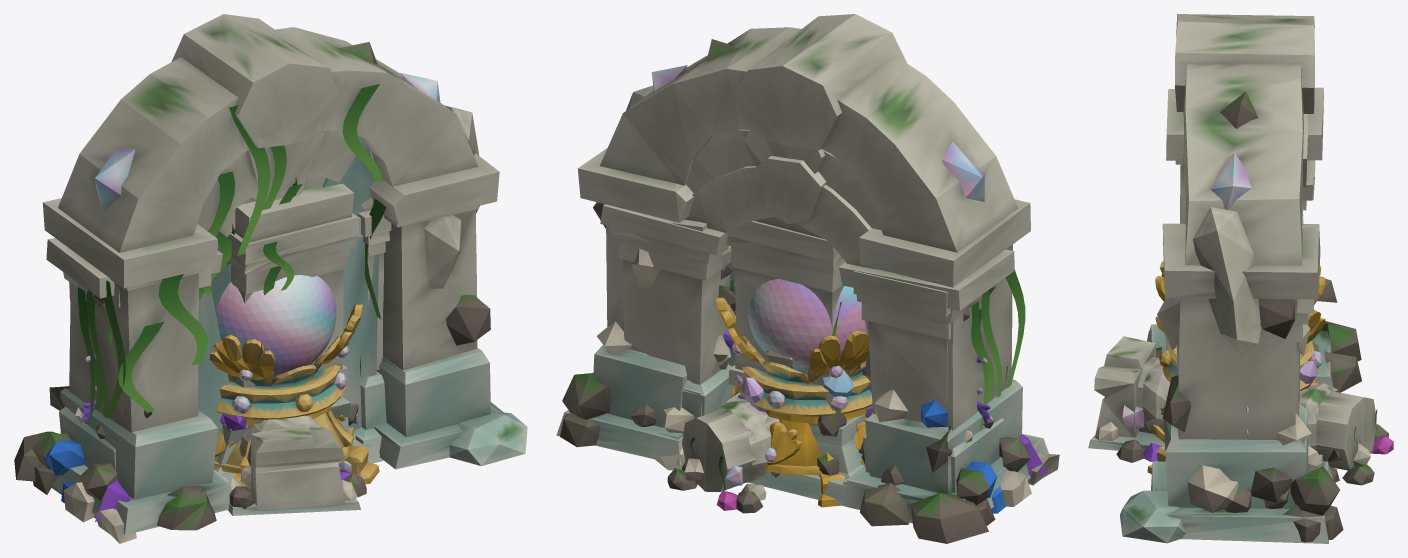
The model's file is grotto-props.glb.
3 renders of one model, left to right at view 1: azimuth 30°, elevation 25°; view 2: azimuth 150°, elevation 25°; view 3: azimuth 270°, elevation 25°, orthographic.
Parts seen in each view (by area): view 1: prop_arch_sealed_flat, prop_arch_flat, prop_pillar_flat, prop_pillar_fallen_flat, prop_pearl_altar_flat, prop_pearl_altar_shinesm, prop_arch_sealed_smooth, prop_arch_shell_flat, prop_arch_sealed_shinesm, prop_arch_smooth, prop_arch_shell_smooth, prop_pillar_smooth; view 2: prop_arch_sealed_flat, prop_arch_shell_flat, prop_arch_flat, prop_pillar_flat, prop_pearl_altar_flat, prop_pillar_fallen_flat, prop_pearl_altar_shinesm, prop_arch_sealed_smooth, prop_arch_sealed_shinesm, prop_crystal_l_shine, prop_arch_shell_smooth; view 3: prop_arch_sealed_flat, prop_pillar_fallen_flat, prop_arch_shell_flat, prop_pearl_altar_flat, prop_arch_sealed_shinesm, prop_arch_flat, prop_pillar_fallen_shinesm.
Part boxes in pixels (x1=…): prop_arch_sealed_flat: x1=14, y1=14, x2=527, y2=534; prop_arch_flat: x1=32, y1=130, x2=391, y2=522; prop_pillar_flat: x1=215, y1=183, x2=383, y2=480; prop_pillar_fallen_flat: x1=222, y1=415, x2=366, y2=515; prop_pearl_altar_flat: x1=209, y1=304, x2=379, y2=490; prop_pearl_altar_shinesm: x1=215, y1=275, x2=357, y2=472; prop_arch_sealed_smooth: x1=79, y1=84, x2=386, y2=418; prop_arch_shell_flat: x1=45, y1=176, x2=363, y2=543; prop_arch_sealed_shinesm: x1=95, y1=73, x2=440, y2=210; prop_arch_smooth: x1=199, y1=145, x2=302, y2=300; prop_arch_shell_smooth: x1=78, y1=230, x2=360, y2=424; prop_pillar_smooth: x1=227, y1=224, x2=294, y2=295; prop_arch_sealed_flat: x1=556, y1=14, x2=1048, y2=543; prop_arch_shell_flat: x1=600, y1=156, x2=1059, y2=523; prop_arch_flat: x1=595, y1=129, x2=1031, y2=525; prop_pillar_flat: x1=726, y1=217, x2=865, y2=509; prop_pearl_altar_flat: x1=716, y1=297, x2=872, y2=507; prop_pillar_fallen_flat: x1=667, y1=400, x2=779, y2=513; prop_pearl_altar_shinesm: x1=722, y1=279, x2=866, y2=462; prop_arch_sealed_smooth: x1=971, y1=269, x2=1025, y2=401; prop_arch_sealed_shinesm: x1=651, y1=65, x2=984, y2=201; prop_crystal_l_shine: x1=741, y1=367, x2=872, y2=417; prop_arch_shell_smooth: x1=730, y1=279, x2=988, y2=430; prop_arch_sealed_flat: x1=1120, y1=14, x2=1361, y2=543; prop_pillar_fallen_flat: x1=1088, y1=336, x2=1393, y2=485; prop_arch_shell_flat: x1=1147, y1=114, x2=1332, y2=508; prop_pearl_altar_flat: x1=1147, y1=261, x2=1325, y2=473; prop_arch_sealed_shinesm: x1=1210, y1=152, x2=1251, y2=209; prop_arch_flat: x1=1224, y1=160, x2=1318, y2=512; prop_pillar_fallen_shinesm: x1=1120, y1=405, x2=1377, y2=431.
Size of the model in its own units: 7 by 6.66 by 4.4.
